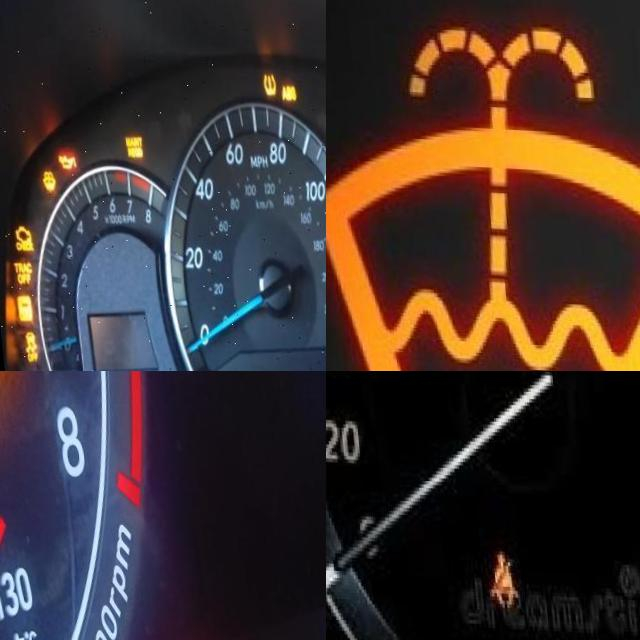Seat Belt: (479, 552, 516, 608)
Washer Fluid: (326, 15, 640, 371)
